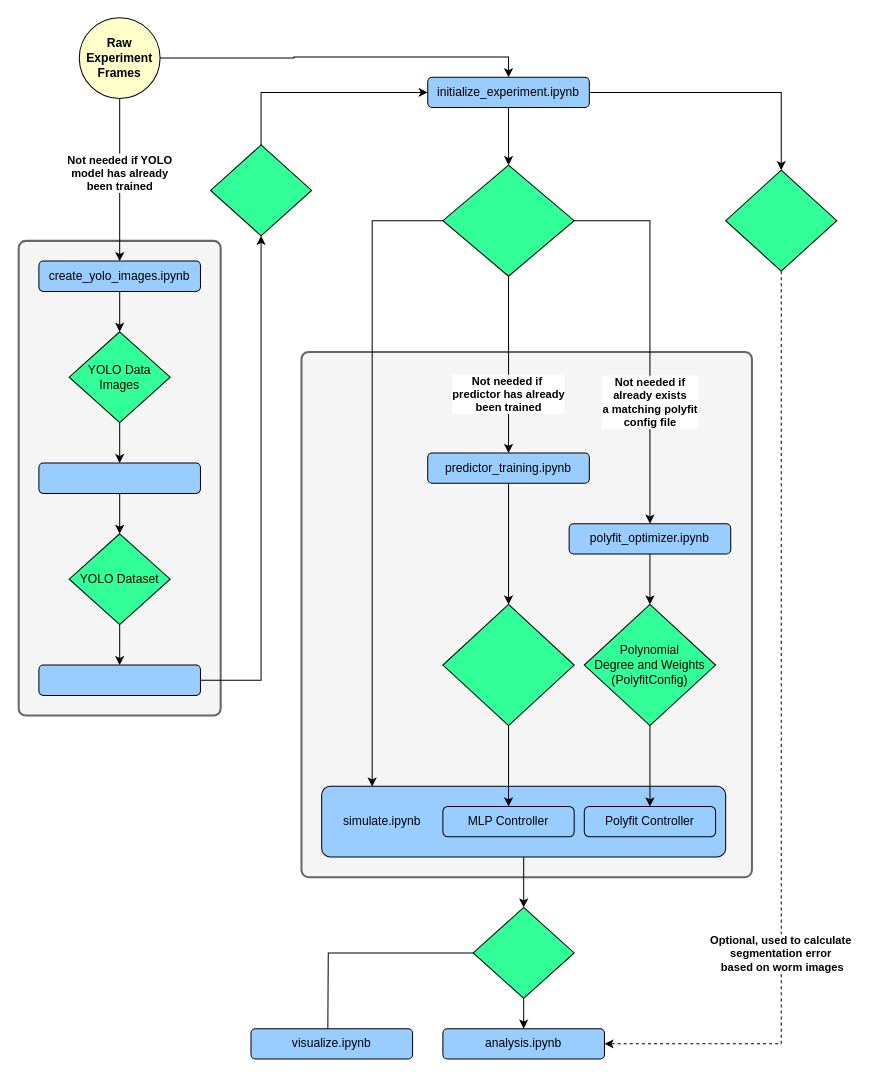
This 872x1077 diagram has some shape labels left out. Each missing label, with the box of its shape:
Background + Worm Images: (725, 169, 837, 271)
Initial Log File (init_bboxes.csv): (442, 164, 574, 276)
RoboFlow (annotation tool): (38, 462, 200, 493)
Sim Log File (bboxes.csv): (472, 906, 574, 998)
Trained Predictor Model: (442, 603, 574, 726)
Trained YOLO Model: (210, 144, 312, 236)
yolo_training.ipynb: (38, 664, 200, 695)
